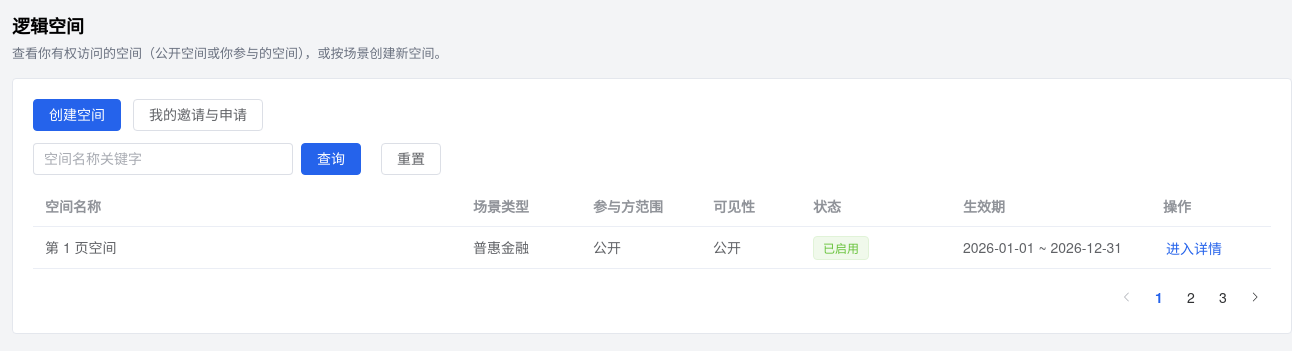
Test: 列表渲染（T5） › 分页越界（1000C0001）：文案原样展示，且列表保持原数据（不乐观更新）（§8.7）
Click the button with class "btn-next" at (1255, 297), box [1239, 281, 1271, 313]
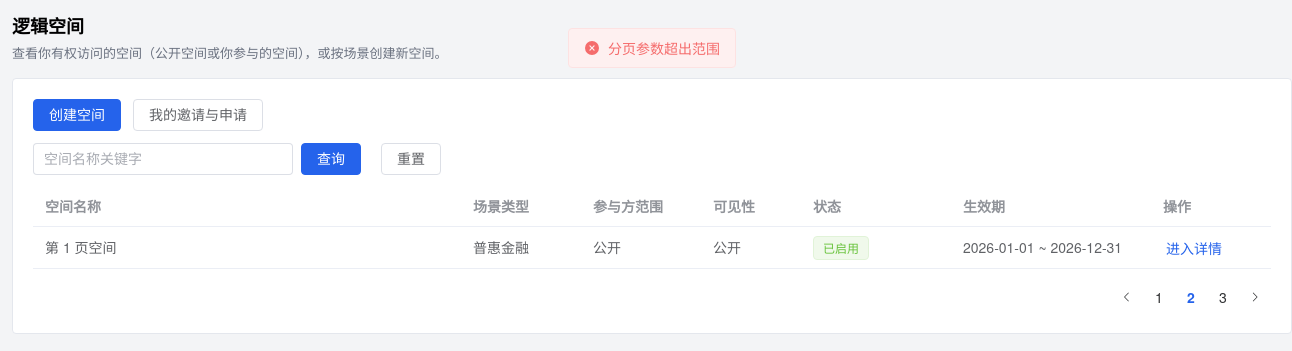
Expected: the text "第 1 页空间" is shown, [45, 237, 117, 257]
Expected: the text "分页参数超出范围" is shown, [608, 41, 720, 55]
